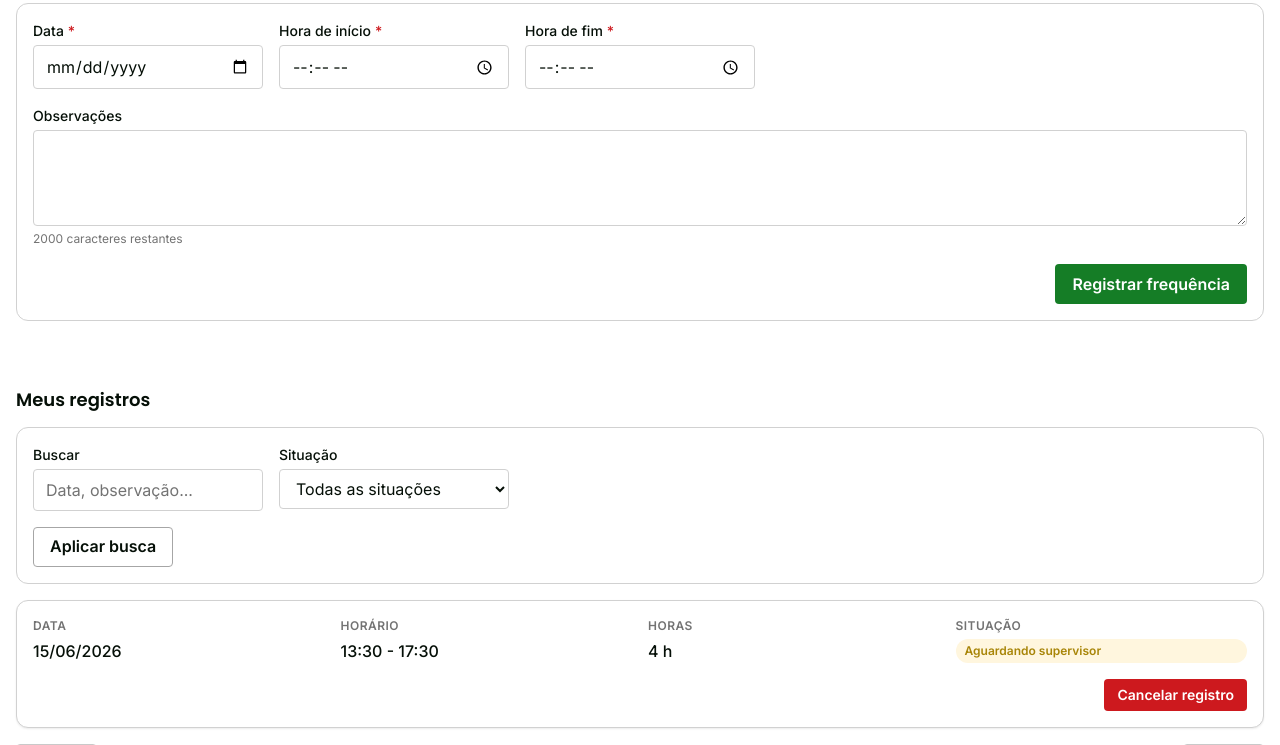
Test: FolhaDePontos › cancela uma folha PENDING somente após confirmação no diálogo
(page scrolled)
Expected: the text "15/06/2026" is shown, x1=33 y1=641 x2=122 y2=661
Click the button with aria-label "cancelar registro de 15/06/2026" at (1176, 695), box x1=1104 y1=679 x2=1247 y2=711
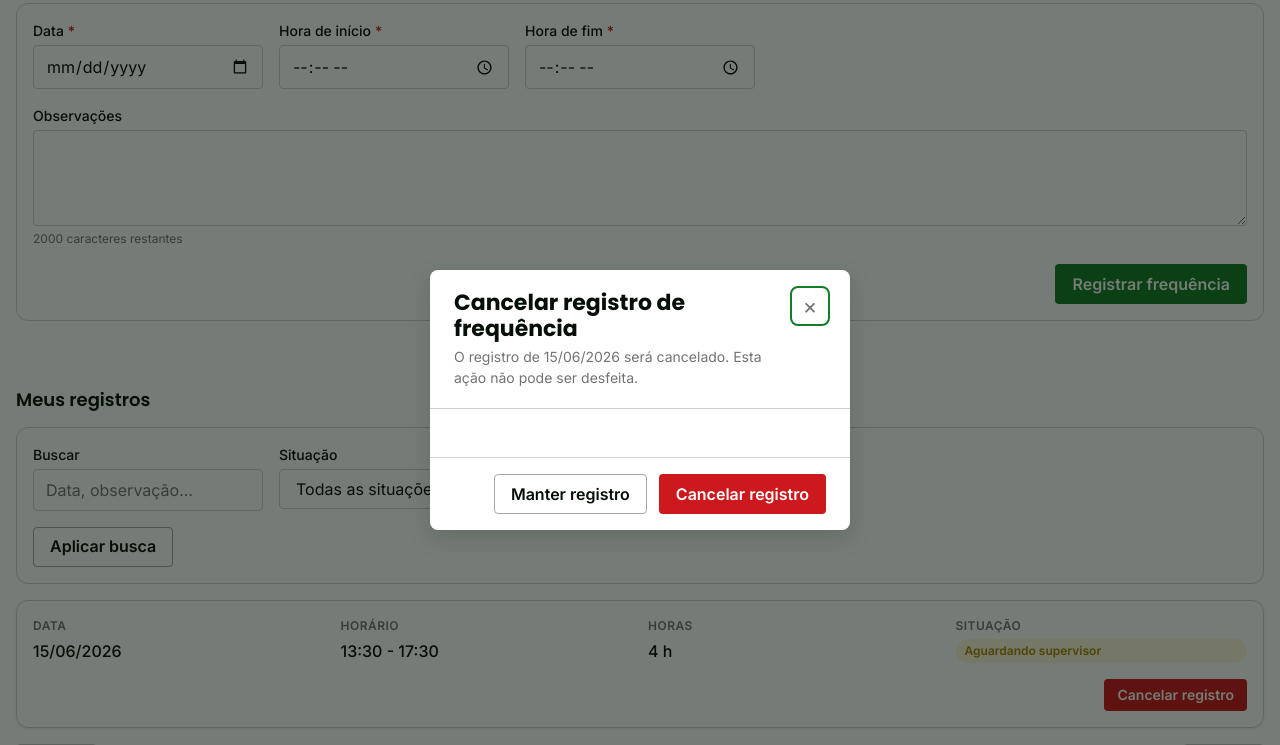
Click the button "Manter registro" at (570, 494), box x1=494 y1=474 x2=647 y2=514
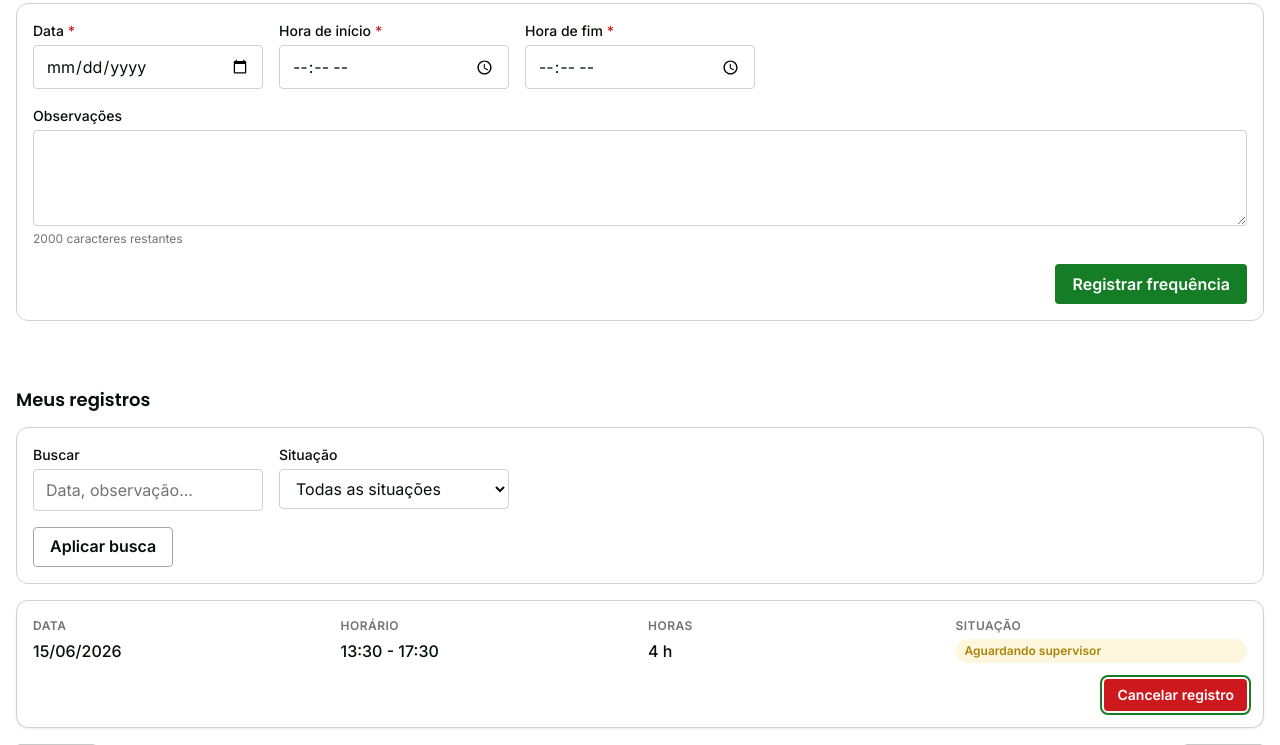
Click the button with aria-label "cancelar registro de 15/06/2026" at (1176, 695), box x1=1104 y1=679 x2=1247 y2=711
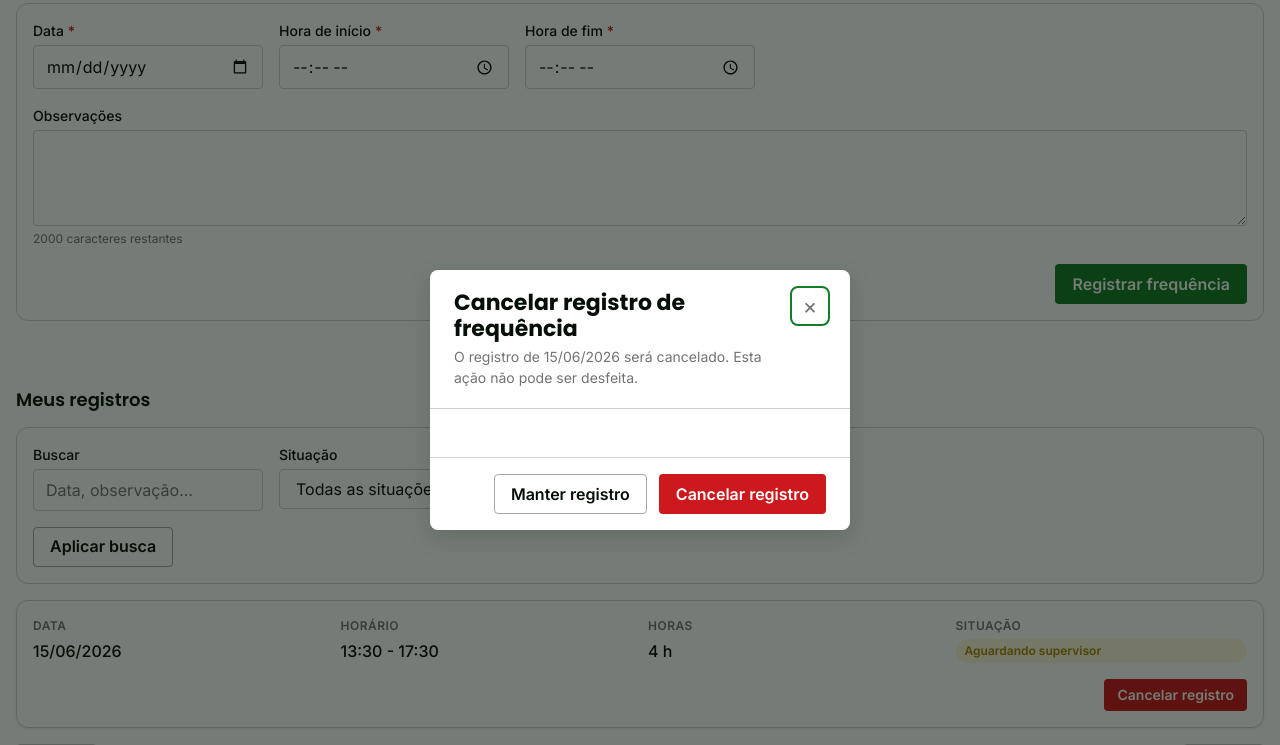
Click the button "Cancelar registro" at (742, 494), box x1=659 y1=474 x2=826 y2=514
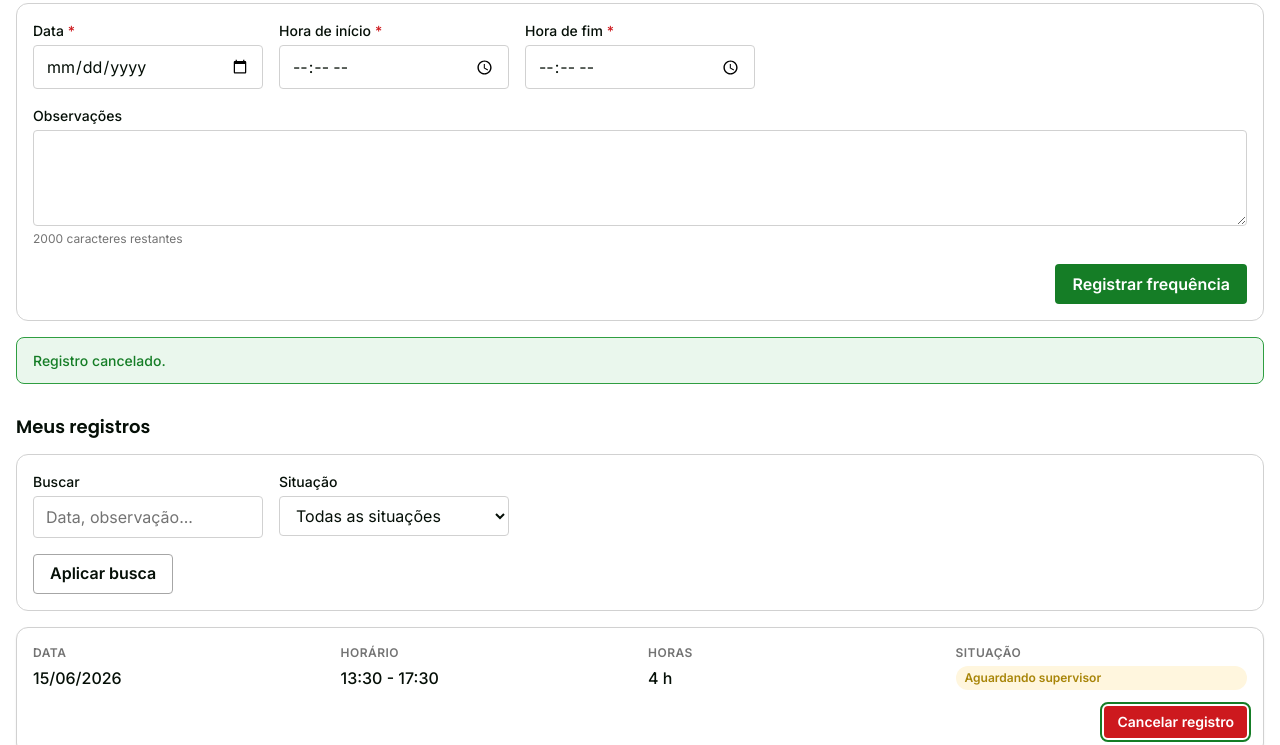
Expected: the text "Registro cancelado." is shown, x1=16 y1=337 x2=1264 y2=384
